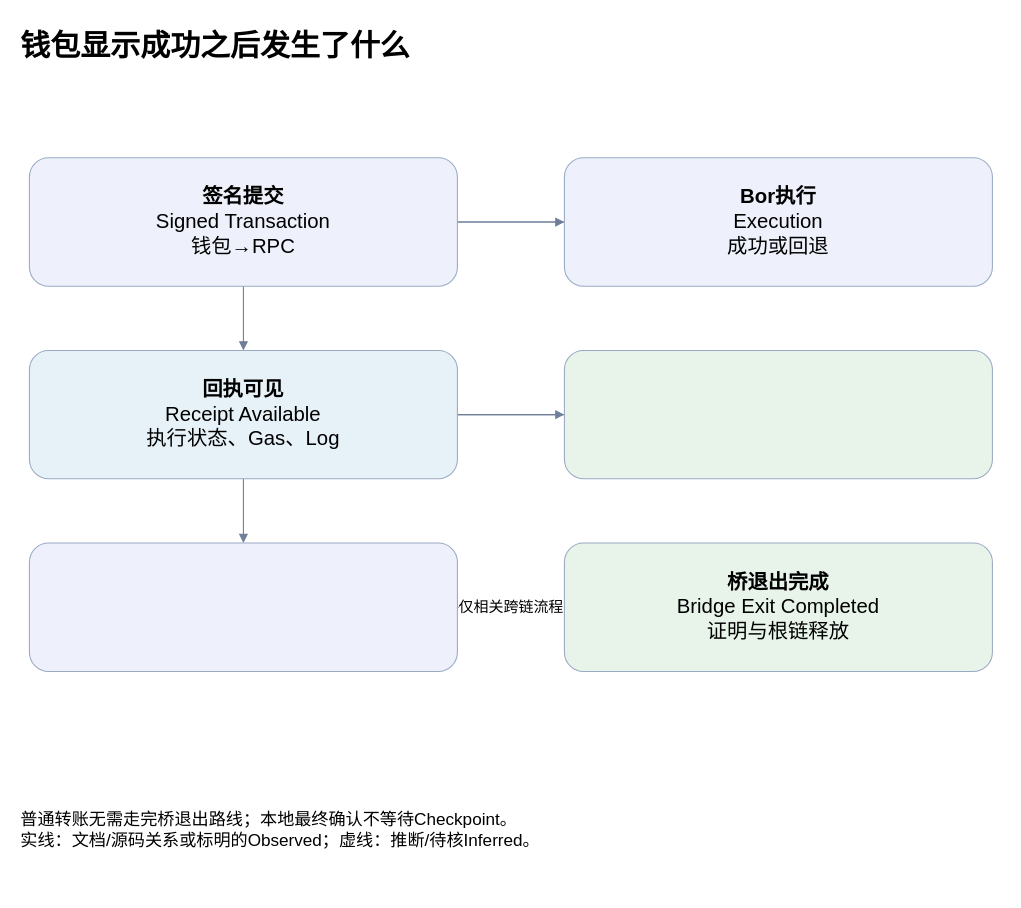
This 1021x908 diagram has some shape labels left out. Here are the shapes that lost their labels. From the top down, the box of each, then its label:
(563, 349, 992, 479): Milestone Local Finality 确认连续Bor历史
(28, 542, 457, 671): Checkpoint L1 Commitment 另行提交Ethereum
